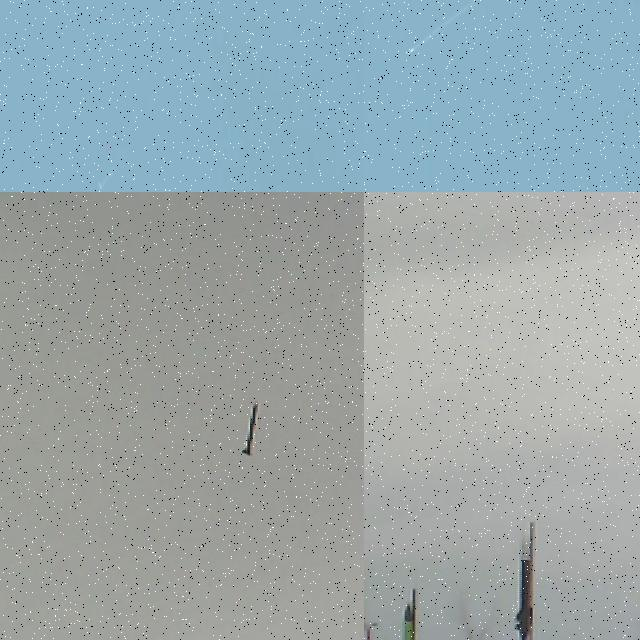Rocket: (514, 524, 534, 640), (241, 399, 260, 456), (401, 603, 413, 640), (407, 48, 414, 55), (99, 183, 101, 189)
